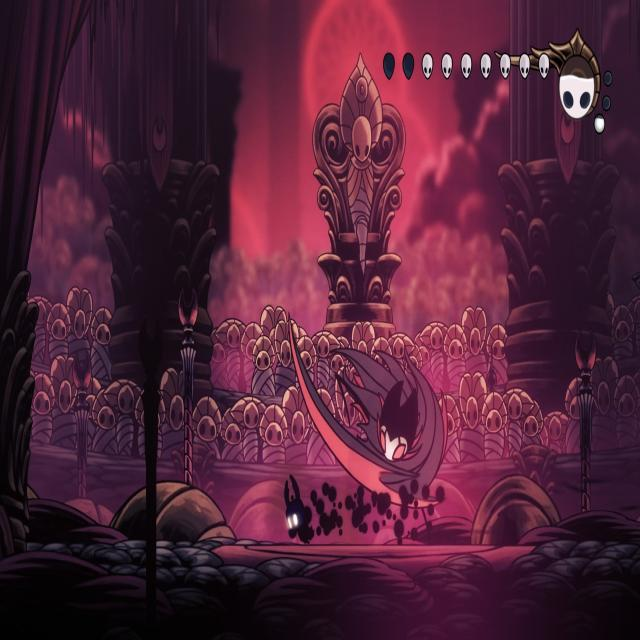Dash Uppercut: (286, 311, 453, 543)
Player: (278, 471, 316, 548)
